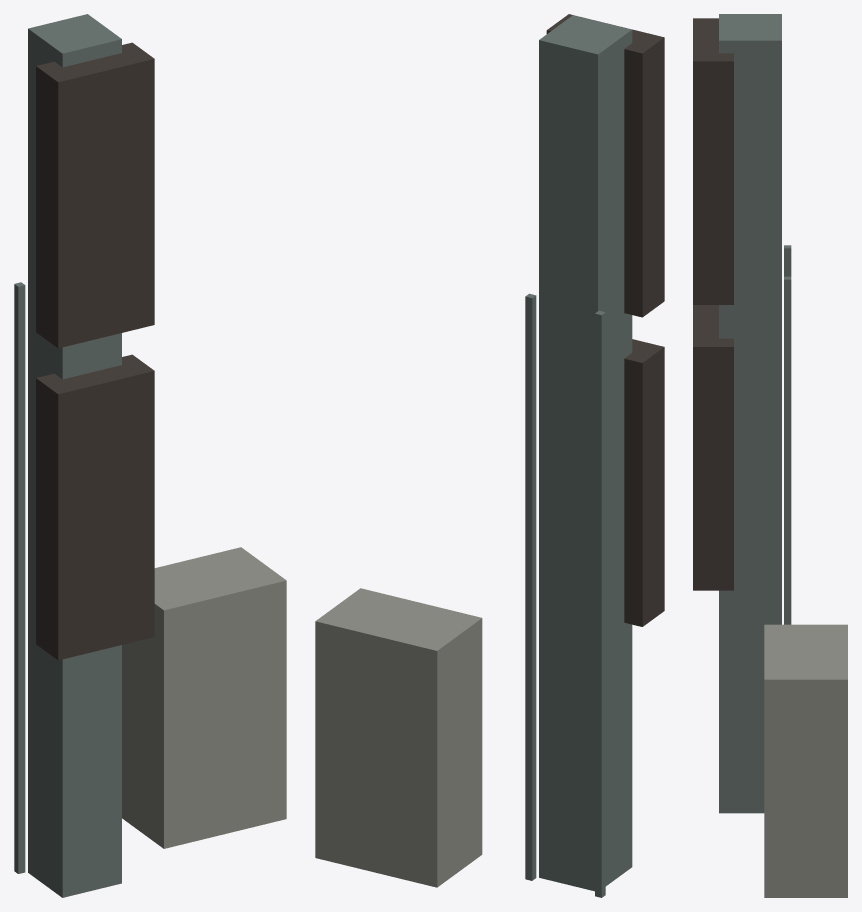
The model's file is SM_senal_via_v5_LOD1.fbx.
3 views of the same model, side by side, from view 1: azimuth 30°, elevation 25°; view 2: azimuth 150°, elevation 25°; view 3: azimuth 270°, elevation 25° (orthographic). The views are drawn at different scales.
Parts seen in each view (by area): view 1: SM_bloques.senal_via_v5_LOD1; view 2: SM_bloques.senal_via_v5_LOD1; view 3: SM_bloques.senal_via_v5_LOD1.
Part boxes in pixels (bbox=[...]): SM_bloques.senal_via_v5_LOD1: bbox=[14, 14, 286, 897]; SM_bloques.senal_via_v5_LOD1: bbox=[315, 14, 664, 897]; SM_bloques.senal_via_v5_LOD1: bbox=[693, 14, 847, 897].
Size of the model in its own units: 1.53 by 4.6 by 0.835.
